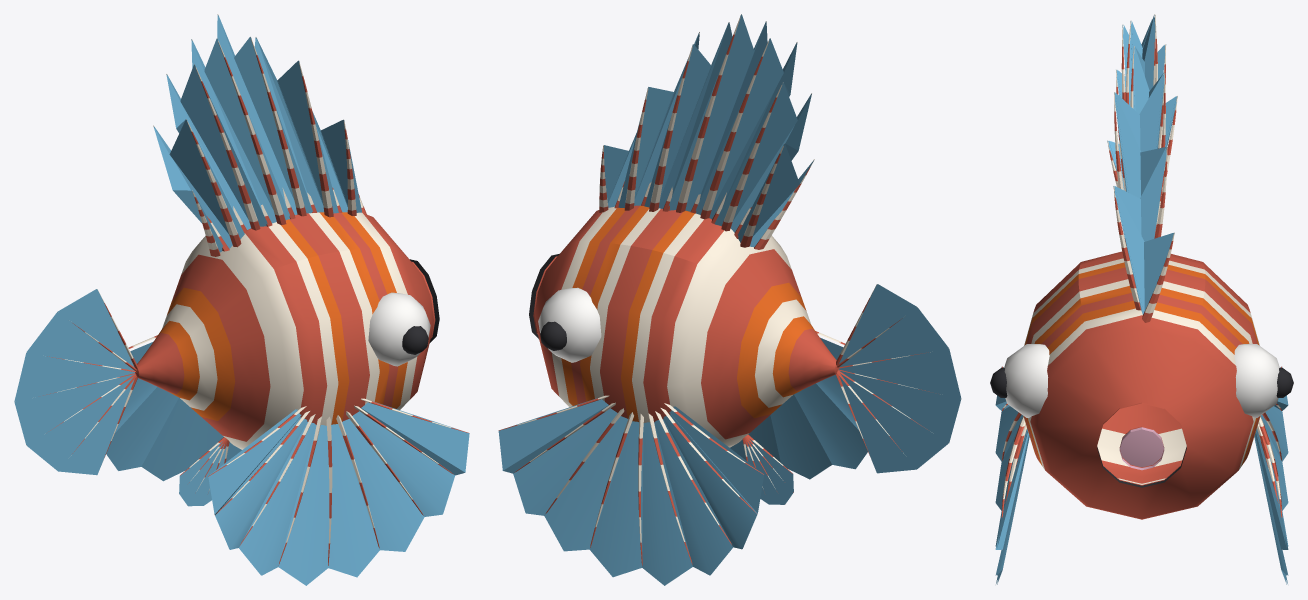
Rendered from RedLionFish.fbx.
3 views of the same model, side by side, from view 1: azimuth 30°, elevation 25°; view 2: azimuth 150°, elevation 25°; view 3: azimuth 270°, elevation 25° (orthographic). The views are drawn at different scales.
Visible parts, largest first — view 1: RedLionFish; view 2: RedLionFish; view 3: RedLionFish.
Boxes of the visible parts, bbox=[...] form: RedLionFish: bbox=[14, 14, 469, 585]; RedLionFish: bbox=[498, 14, 961, 585]; RedLionFish: bbox=[990, 14, 1293, 584].
Size of the model in its own units: 396 by 482 by 250.
